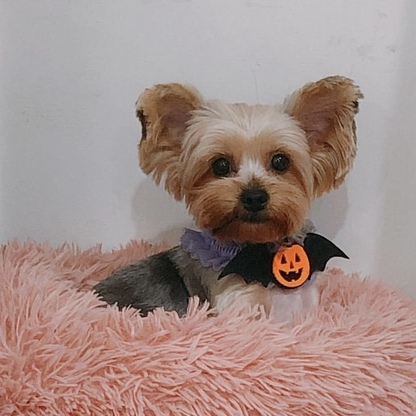yokshine: (130, 74, 364, 248)
